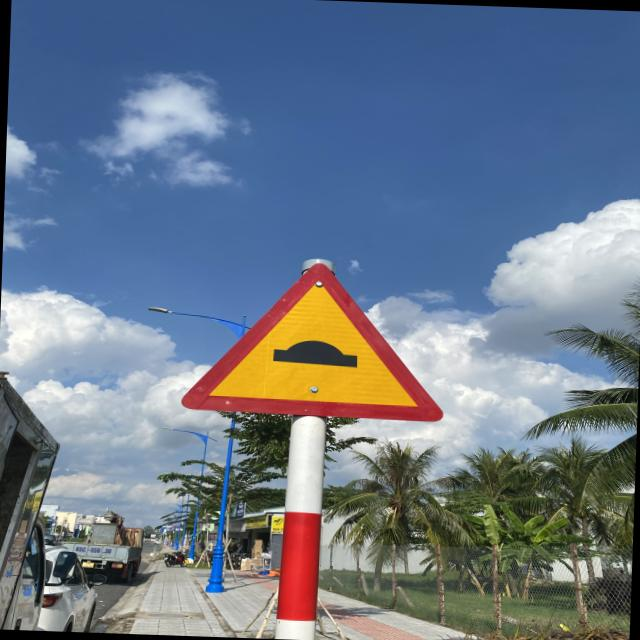Duong_Cong_Ben_Phai: (178, 258, 447, 424)
